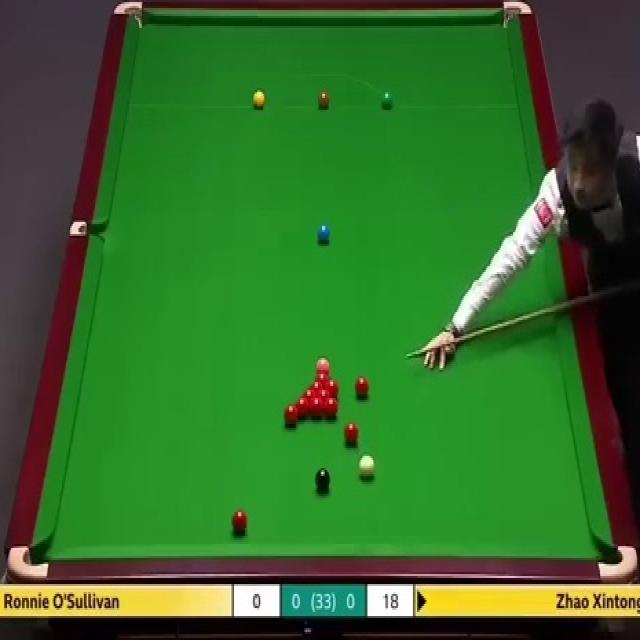black-ball: (313, 469, 330, 494)
blue-ball: (316, 222, 331, 245)
brown-ball: (318, 94, 330, 114)
green-ball: (379, 91, 395, 112)
pink-ball: (318, 361, 332, 372)
red-ball: (323, 396, 339, 421), (283, 406, 301, 428), (232, 508, 247, 532), (295, 398, 310, 419), (344, 423, 358, 445), (310, 397, 323, 418), (300, 390, 315, 408), (356, 378, 369, 398), (329, 379, 342, 398), (316, 371, 328, 387), (318, 385, 331, 399)
white-ball: (360, 455, 375, 477)
yellow-ball: (252, 90, 265, 110)
